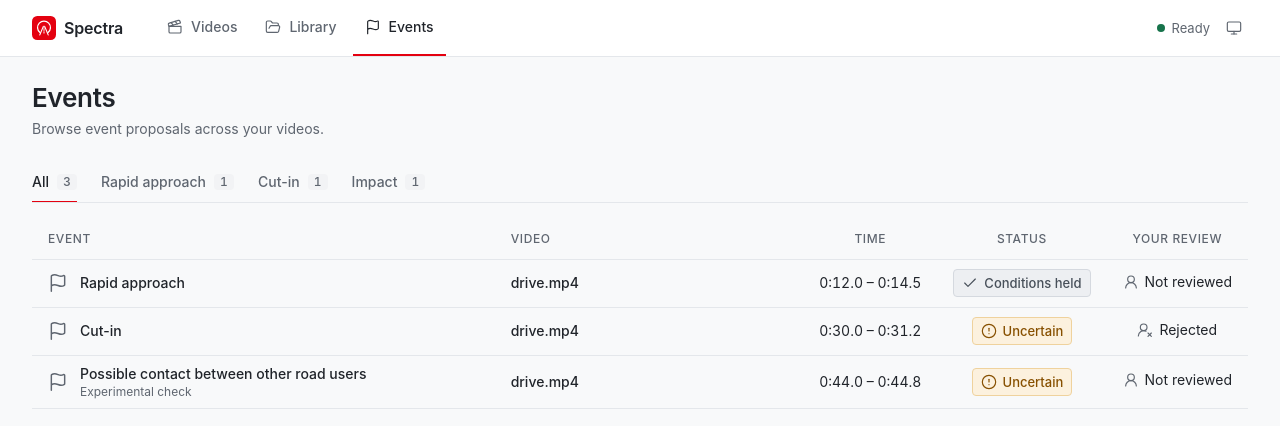
it: event library › lists proposals from stored timelines without fabricating any
The image size is (1280, 426).
Expected: the number of rows is 4, [32,219,1248,259]; [32,259,1248,307]; [32,307,1248,355]; [32,355,1248,408]
Expected: the text "Not reviewed" in the row of "0:12.0" is shown, [1144,272,1232,290]
Click the tab "Impact 1": x=388, y=183 [352,163,425,203]
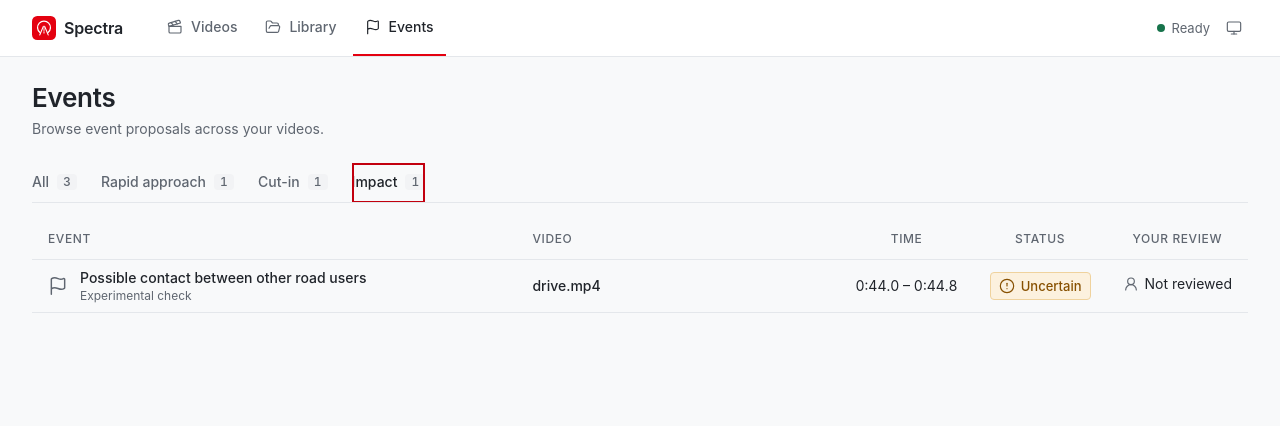
Result: the number of rows is 2 at [32,219,1248,259]; [32,259,1248,312]
